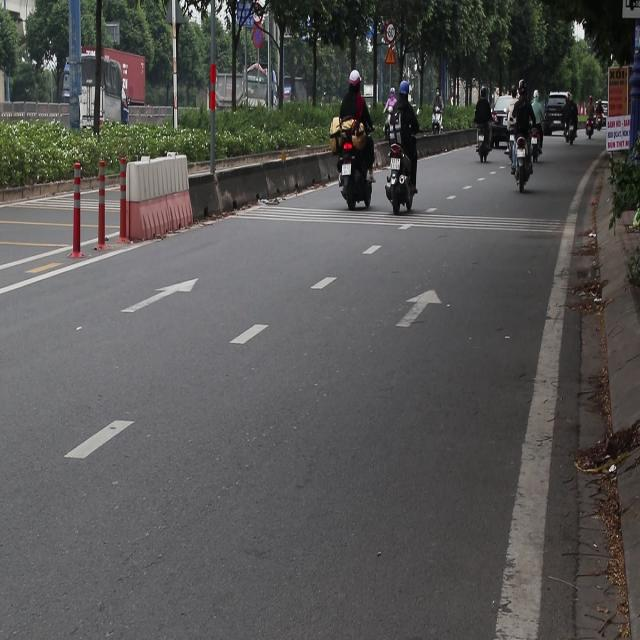car: (544, 95, 568, 136), (492, 96, 515, 126)
motorbike: (334, 122, 376, 209), (383, 143, 416, 216), (509, 130, 532, 180), (473, 125, 491, 172), (428, 95, 448, 132), (560, 128, 578, 152), (382, 101, 393, 131)
truck: (207, 61, 280, 143), (61, 55, 130, 139)
